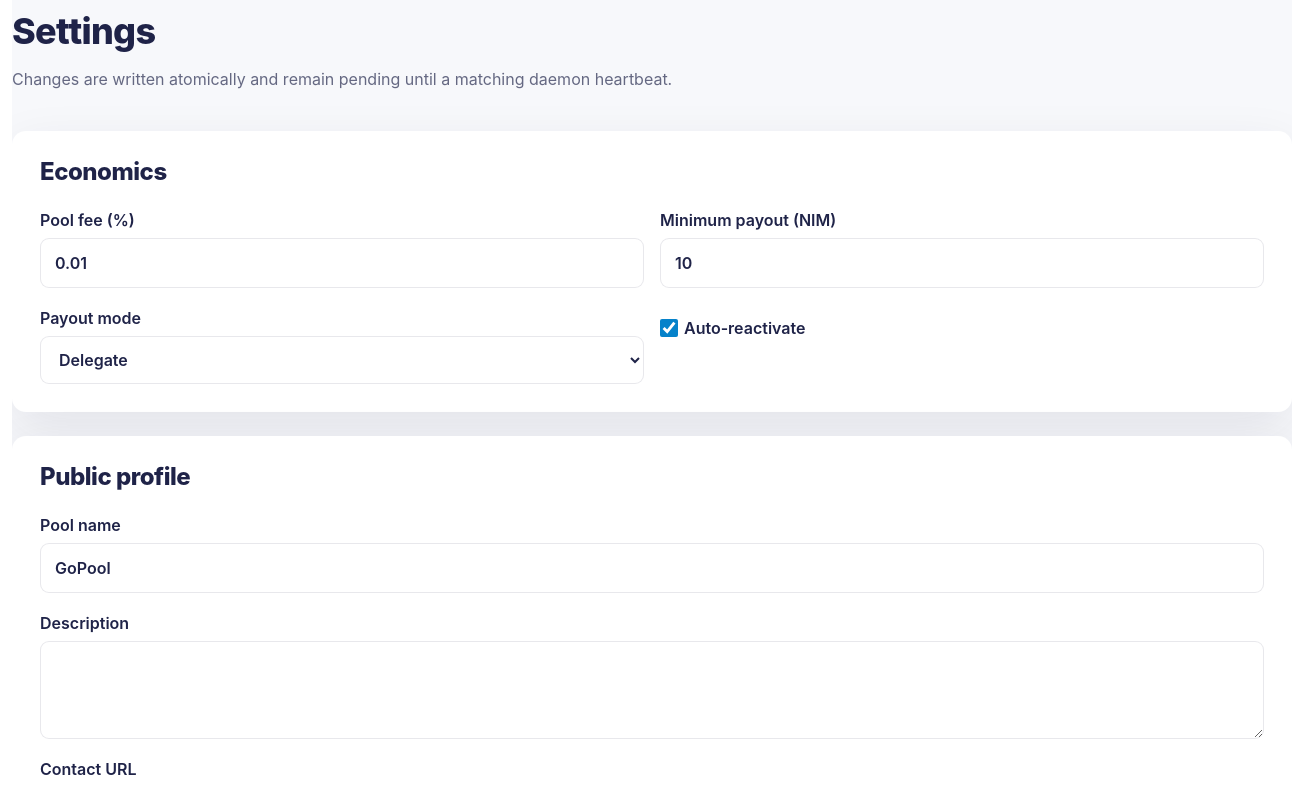
Test case: shows before/after before saving settings
Replace the text in the number field named "min_payout_nim" with "25" at (962, 263), box x1=660 y1=238 x2=1264 y2=288
(page scrolled)
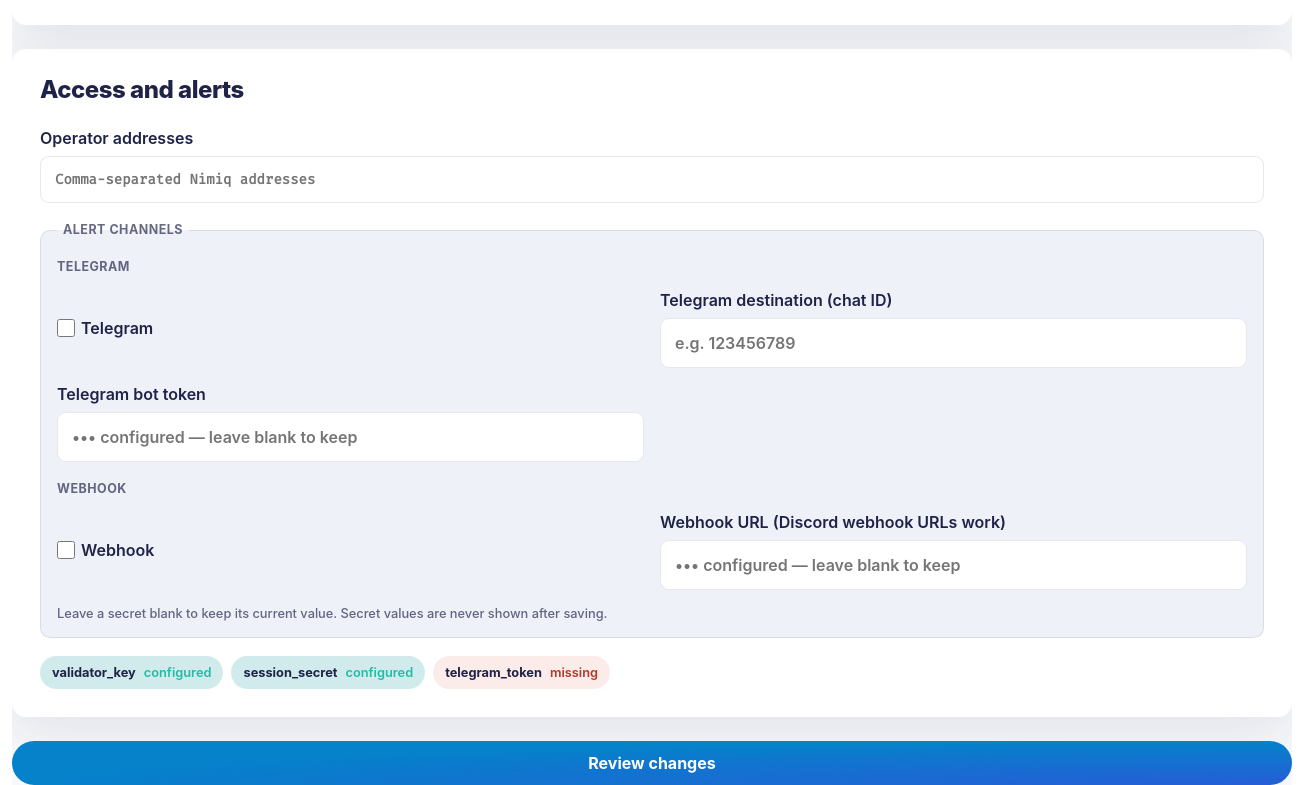
Click the button "Review changes" at (652, 763), box x1=12 y1=741 x2=1292 y2=784
(page scrolled)
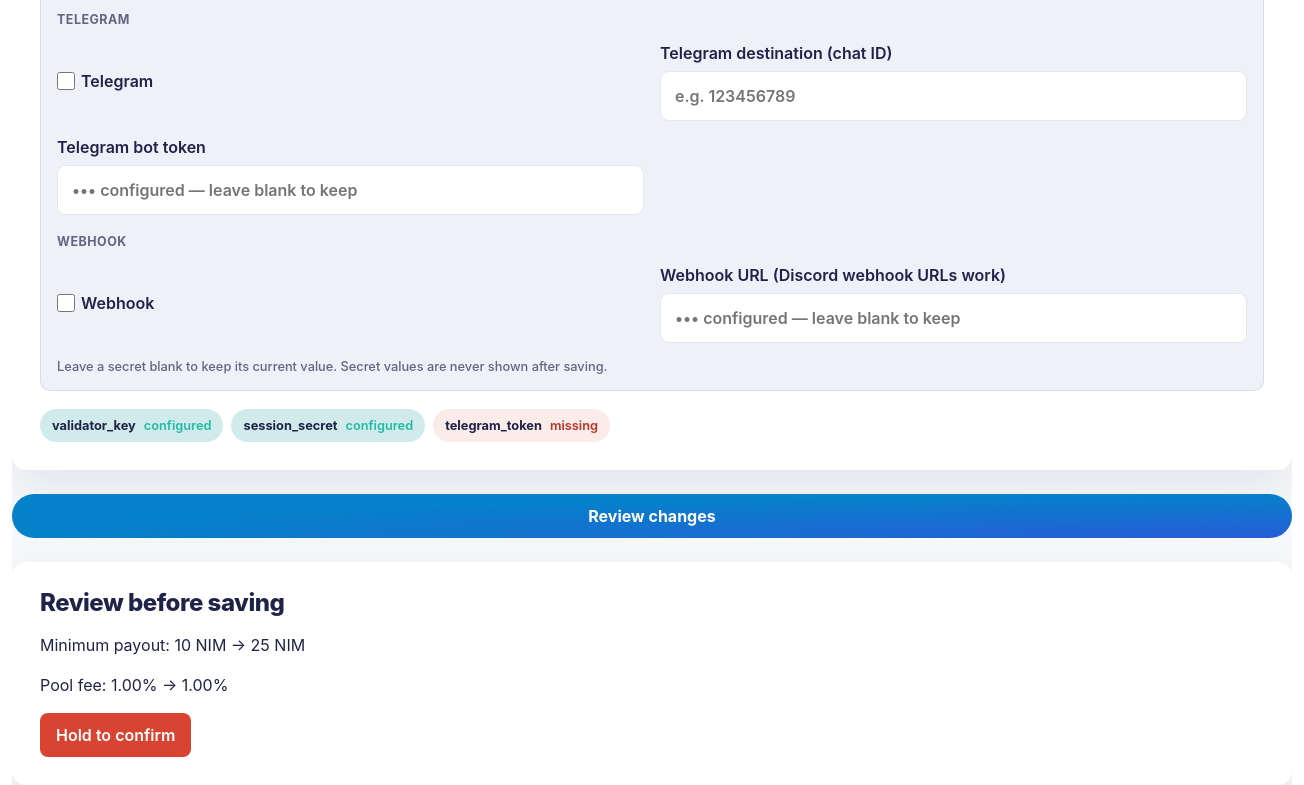
Now the element that starts with "Review before saving" shows "10 NIM → 25 NIM", box x1=40 y1=635 x2=305 y2=655
